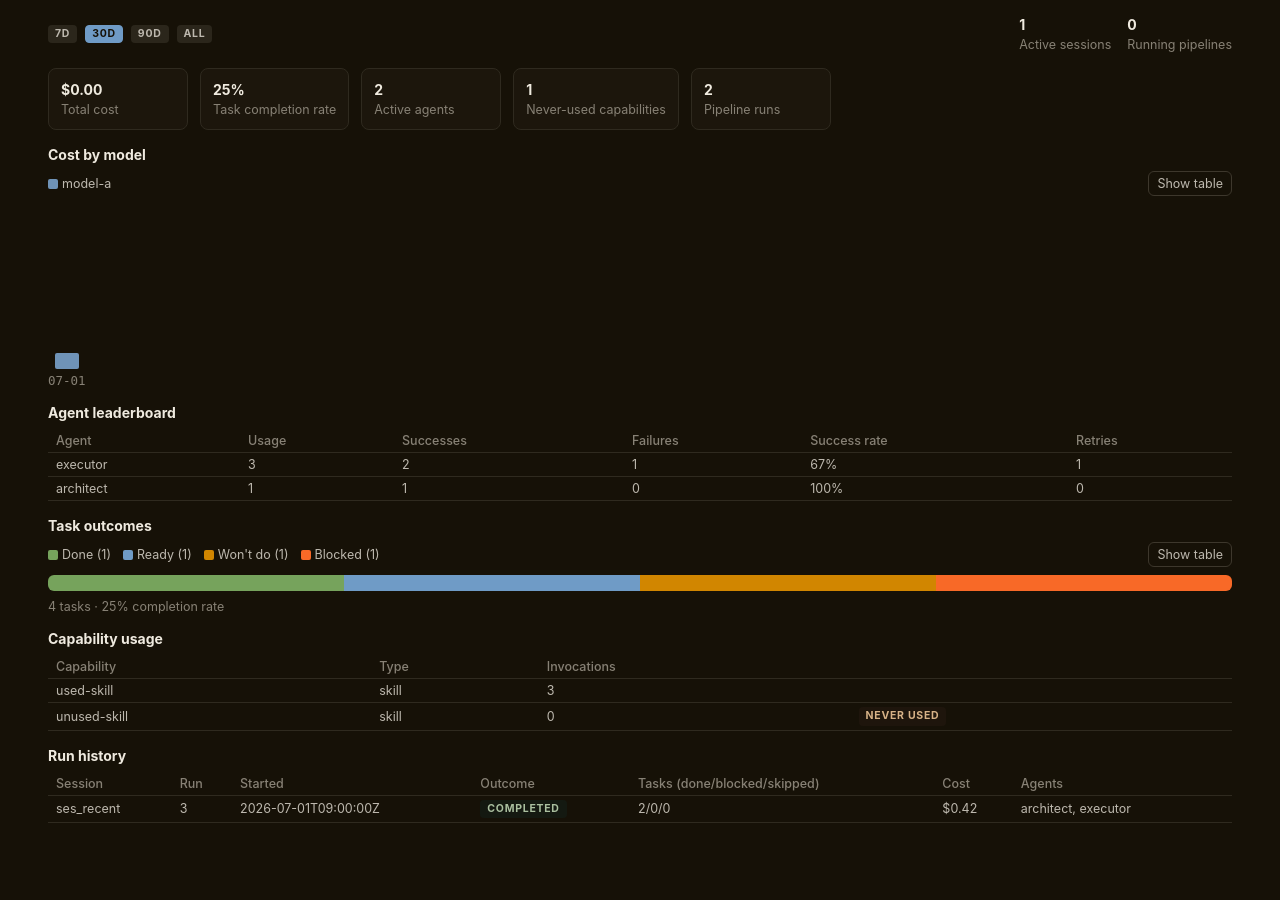
Test: DashboardTab › re-slices the cost chart and run history on date preset, leaving the other views unchanged
Expected: the text "ses_recent" is shown, [48,795,172,822]
Click the button "Show table" in the row of "model-a": {"x": 1190, "y": 184} [1148,171,1232,196]
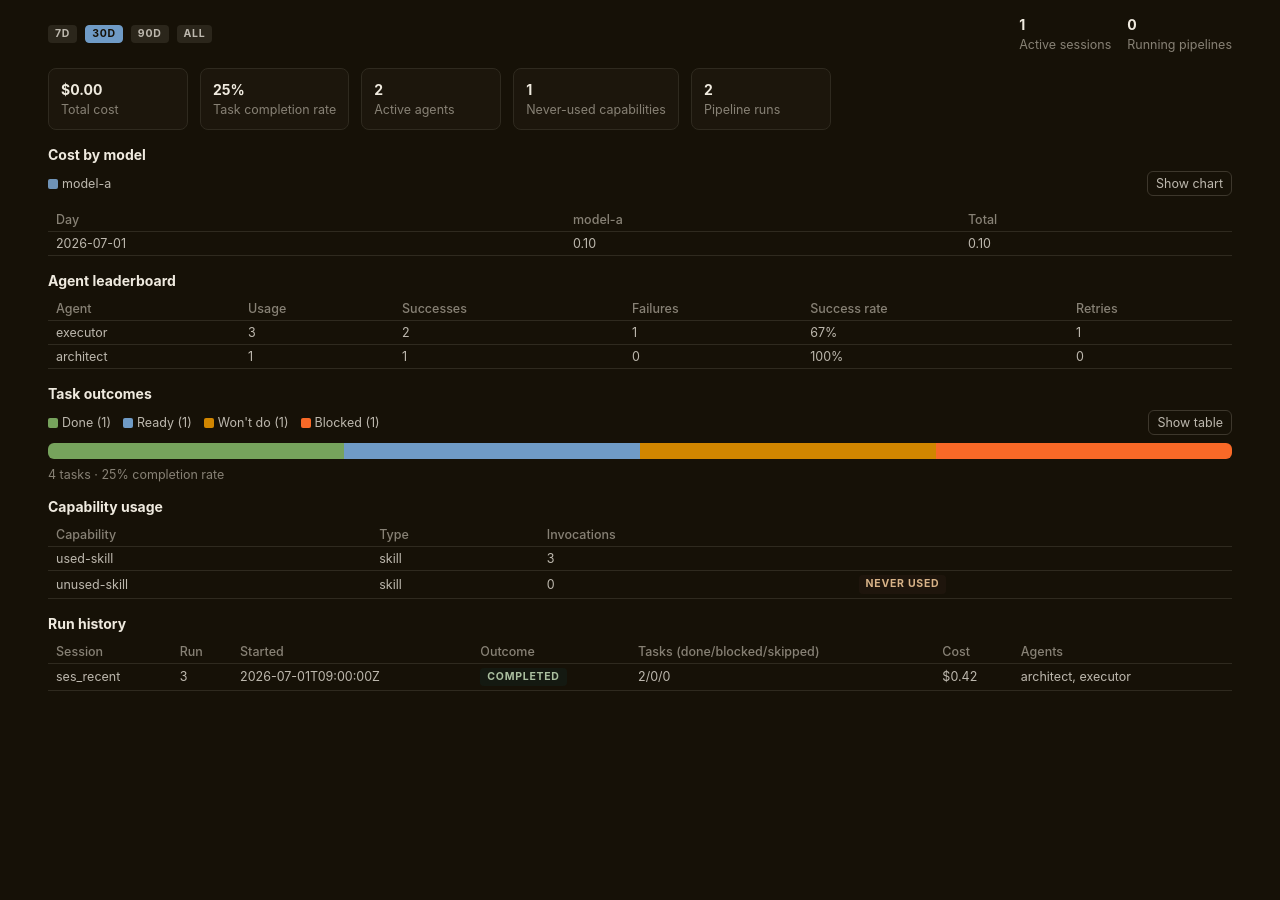
Click the button "7d": {"x": 63, "y": 34} [48,25,77,43]
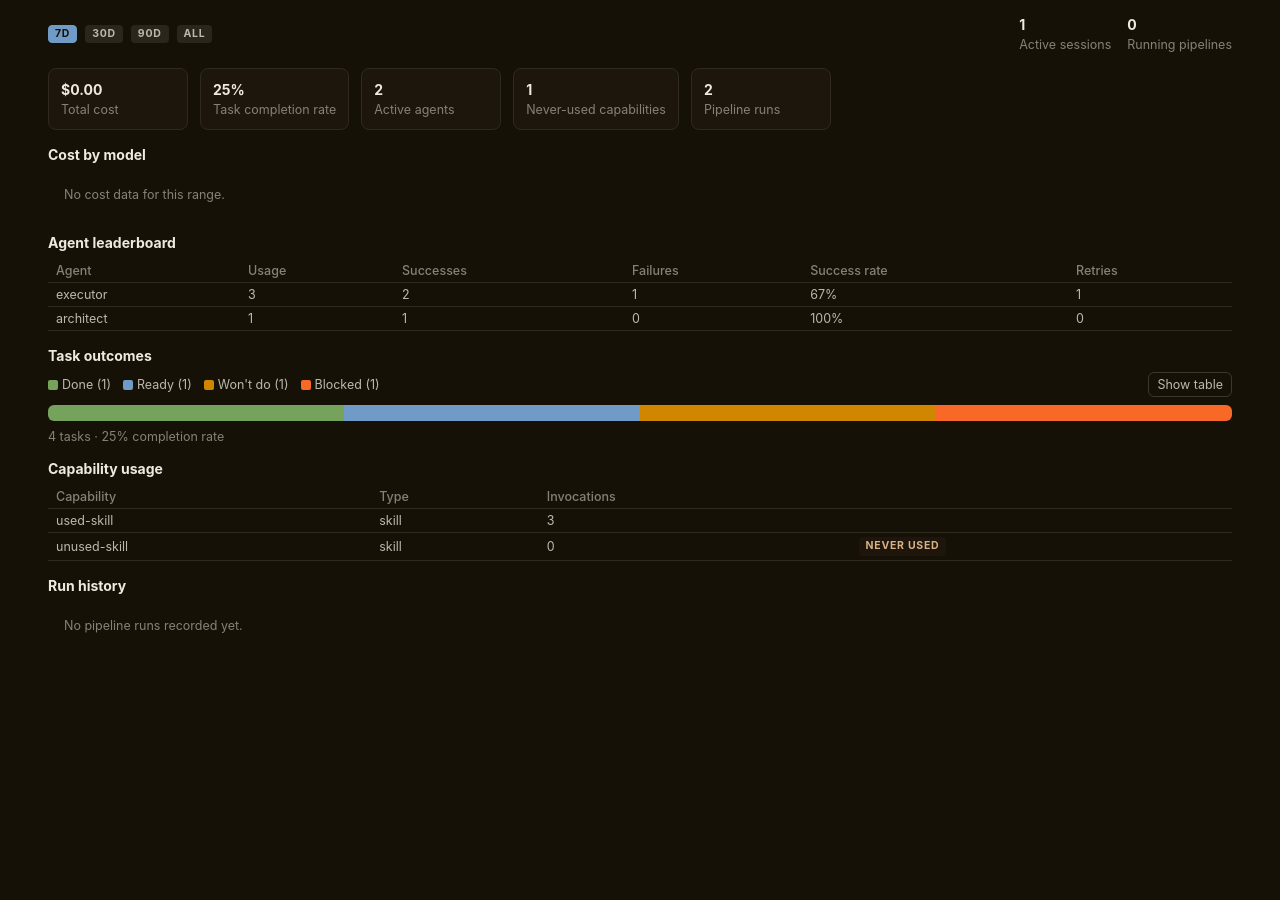
Expected: the text "executor" is shown, [48,282,240,306]
Now the text "ses_recent" is gone
Now the text "No cost data for this range." is shown, box [64,187,225,202]
